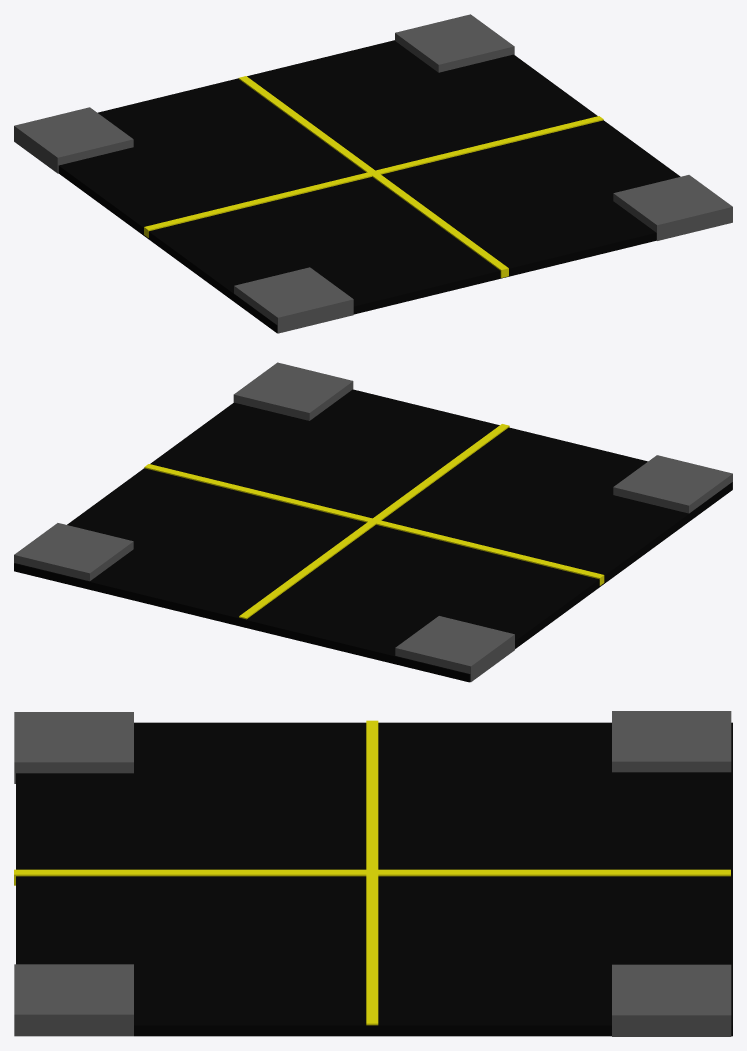
Rendered from Duble Yol 2 Kavsak.fbx.
3 renders of one model, top to bottom at view 1: azimuth 30°, elevation 25°; view 2: azimuth 150°, elevation 25°; view 3: azimuth 270°, elevation 25°, orthographic. The views are drawn at different scales.
Visible parts, largest first — view 1: Duble Yol 2 Kavsak; view 2: Duble Yol 2 Kavsak; view 3: Duble Yol 2 Kavsak.
Boxes of the visible parts, bbox=[...] form: Duble Yol 2 Kavsak: bbox=[14, 14, 732, 333]; Duble Yol 2 Kavsak: bbox=[14, 362, 732, 682]; Duble Yol 2 Kavsak: bbox=[14, 711, 732, 1036].
Bounding box in the file's own units: 602 × 20 × 602.
